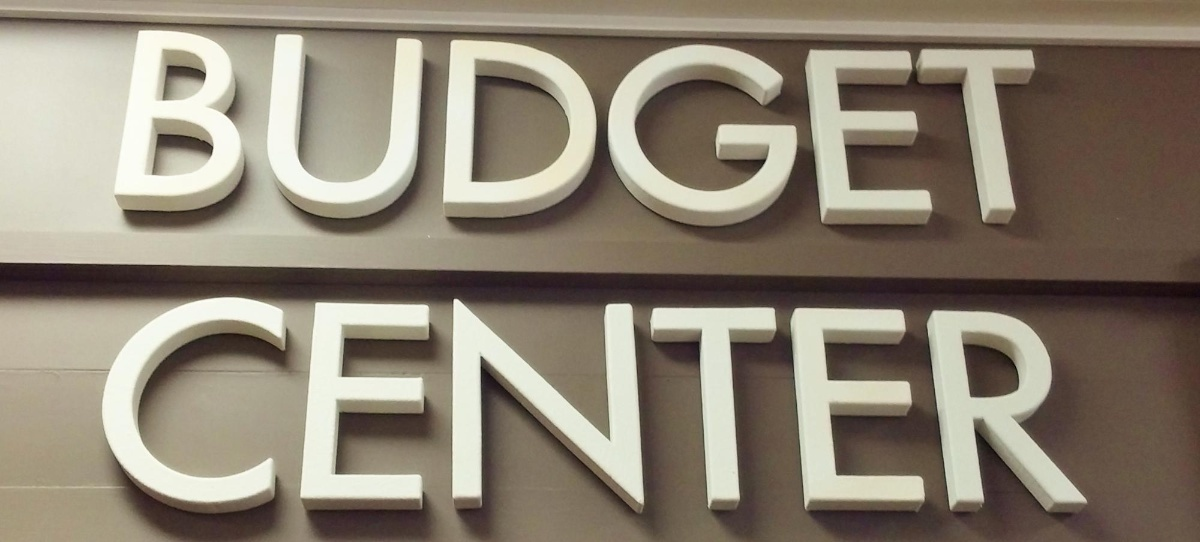text: (113, 289, 128, 519), (129, 289, 144, 519), (145, 289, 160, 519), (161, 289, 176, 519), (177, 289, 192, 519), (193, 289, 208, 519), (209, 289, 224, 519), (225, 289, 240, 519), (241, 289, 256, 519), (257, 289, 272, 519), (273, 289, 288, 519), (289, 289, 304, 519), (305, 289, 320, 519), (321, 289, 336, 519), (337, 289, 352, 519), (353, 289, 368, 519), (369, 289, 384, 519), (385, 289, 400, 519), (401, 289, 416, 519), (417, 289, 432, 519), (433, 289, 448, 519), (449, 289, 464, 519), (465, 289, 480, 519), (481, 289, 496, 519), (497, 289, 512, 519), (513, 289, 528, 519), (529, 289, 544, 519), (545, 289, 560, 519), (561, 289, 576, 519), (577, 289, 592, 519), (593, 289, 608, 519), (609, 289, 624, 519), (625, 289, 640, 519), (641, 289, 656, 519), (657, 289, 672, 519), (673, 289, 688, 519), (689, 289, 704, 519), (705, 289, 720, 519), (721, 289, 736, 519), (737, 289, 752, 519), (753, 289, 768, 519), (769, 289, 784, 519), (785, 289, 800, 519), (801, 289, 816, 519), (817, 289, 832, 519), (833, 289, 848, 519), (849, 289, 864, 519), (865, 289, 880, 519), (881, 289, 896, 519), (897, 289, 912, 519), (913, 289, 928, 519), (929, 289, 944, 519), (945, 289, 960, 519), (961, 289, 976, 519), (977, 289, 992, 519), (993, 289, 1008, 519), (1009, 289, 1024, 519), (1025, 289, 1040, 519), (1041, 289, 1056, 519), (1057, 289, 1072, 519), (1073, 289, 1088, 519), (145, 31, 160, 244), (161, 31, 176, 244), (177, 31, 192, 244), (193, 31, 208, 244), (209, 31, 224, 244), (225, 31, 240, 244), (241, 31, 256, 244), (257, 31, 272, 244), (273, 31, 288, 244), (289, 31, 304, 244), (305, 31, 320, 244), (321, 31, 336, 244), (337, 31, 352, 244), (353, 31, 368, 244), (369, 31, 384, 244), (385, 31, 400, 244), (401, 31, 416, 244), (417, 31, 432, 244), (433, 31, 448, 244), (449, 31, 464, 244), (465, 31, 480, 244), (481, 31, 496, 244), (497, 31, 512, 244), (513, 31, 528, 244), (529, 31, 544, 244), (545, 31, 560, 244), (561, 31, 576, 244), (577, 31, 592, 244), (593, 31, 608, 244), (609, 31, 624, 244), (625, 31, 640, 244), (641, 31, 656, 244), (657, 31, 672, 244), (673, 31, 688, 244), (689, 31, 704, 244), (705, 31, 720, 244), (721, 31, 736, 244), (737, 31, 752, 244), (753, 31, 768, 244), (769, 31, 784, 244), (785, 31, 800, 244), (801, 31, 816, 244), (817, 31, 832, 244), (833, 31, 848, 244), (849, 31, 864, 244), (865, 31, 880, 244), (881, 31, 896, 244), (897, 31, 912, 244), (913, 31, 928, 244), (929, 31, 944, 244), (945, 31, 960, 244), (961, 31, 976, 244), (977, 31, 992, 244), (993, 31, 1008, 244), (1009, 31, 1024, 244), (1025, 31, 1040, 244), (100, 289, 112, 519), (132, 31, 144, 244), (1041, 31, 1049, 244), (1089, 289, 1091, 519)
